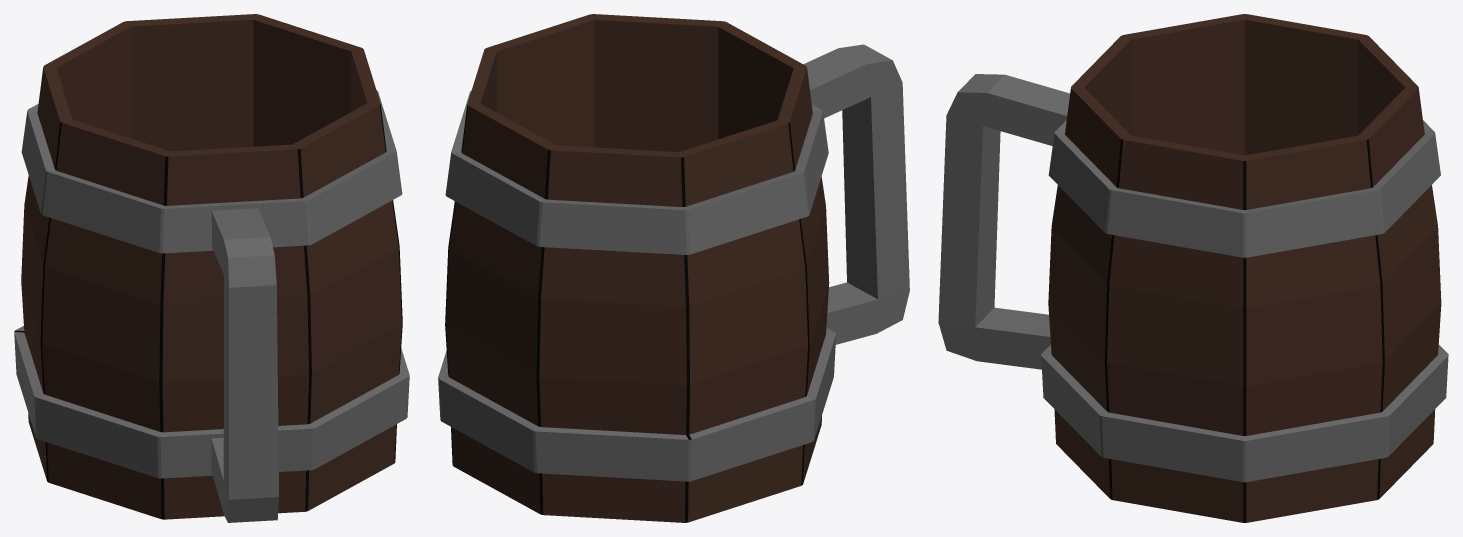
The model's file is tankard.fbx.
3 views of the same model, side by side, from view 1: azimuth 30°, elevation 25°; view 2: azimuth 150°, elevation 25°; view 3: azimuth 270°, elevation 25° (orthographic).
Parts seen in each view (by area): view 1: Tankard; view 2: Tankard; view 3: Tankard.
Part boxes in pixels (<box>): Tankard: <box>14,14,409,522</box>; Tankard: <box>438,14,909,522</box>; Tankard: <box>938,14,1448,522</box>.
Size of the model in its own units: 234 by 225 by 292.
